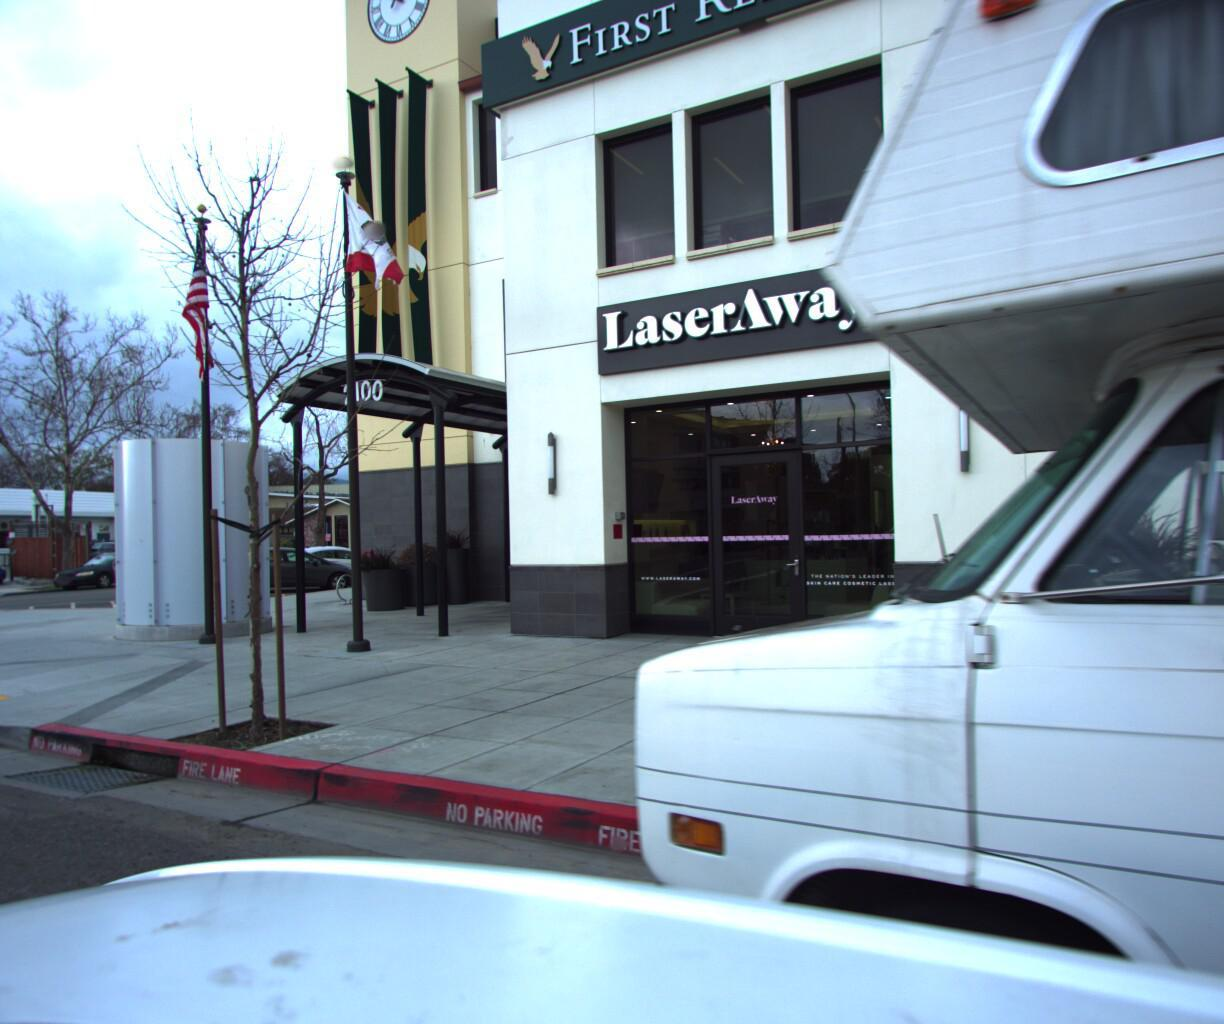car: (207, 539, 362, 591), (263, 538, 406, 583), (43, 542, 180, 588), (65, 534, 163, 573)
